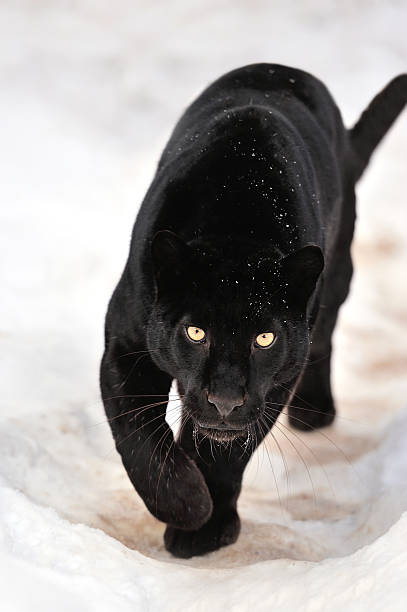panther: (106, 215, 358, 457)
